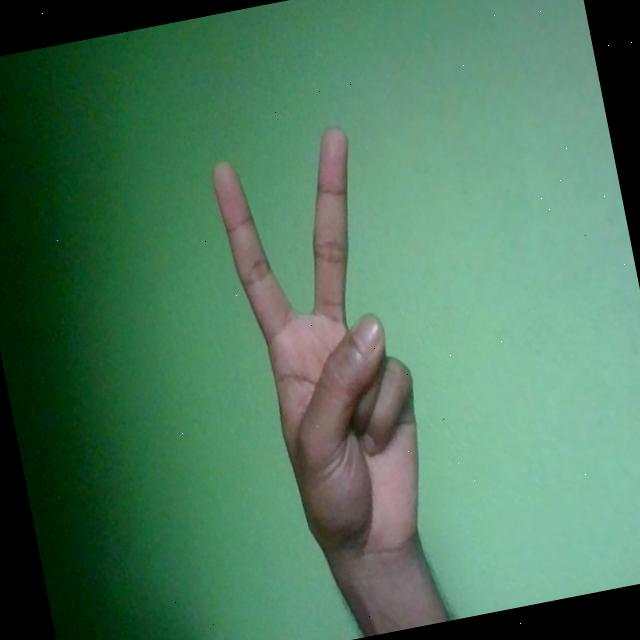Fist: (207, 118, 448, 587)
